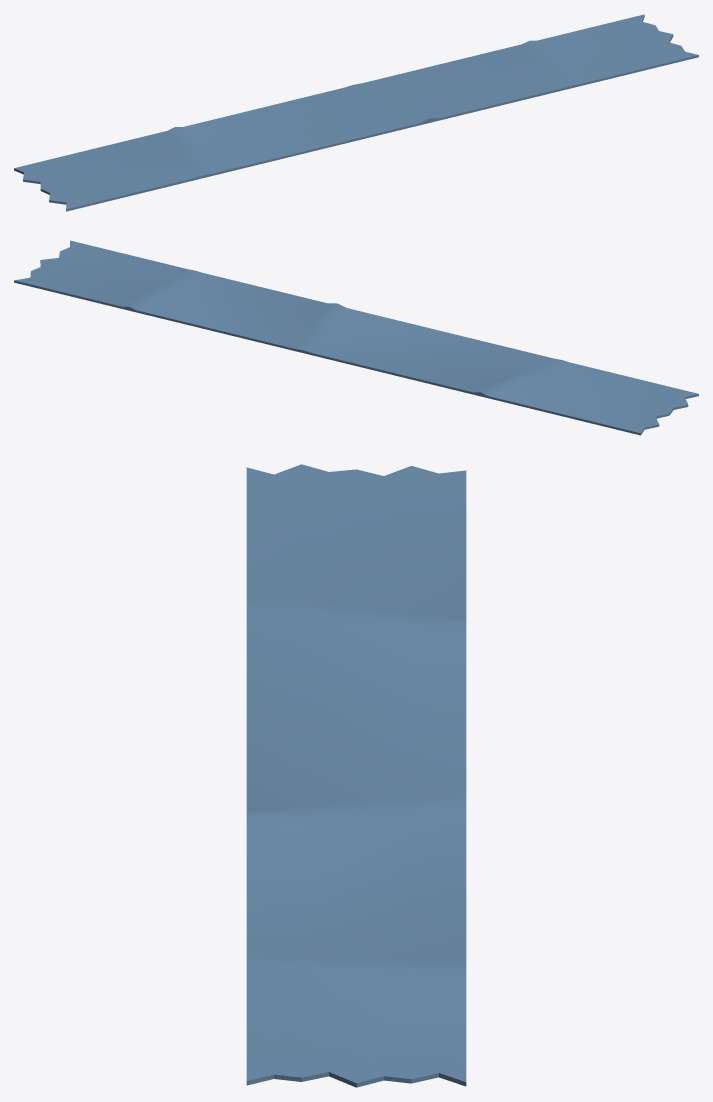
The model's file is prop_tape_strip.glb.
The picture shows the model from 3 angles, top to bottom: view 1: azimuth 30°, elevation 25°; view 2: azimuth 150°, elevation 25°; view 3: azimuth 270°, elevation 25°; orthographic projection. The views are drawn at different scales.
Visible parts, largest first — view 1: Tape; view 2: Tape; view 3: Tape.
Part boxes in pixels (x1,y1,x2,y2): Tape: [14, 14, 698, 211]; Tape: [14, 240, 698, 435]; Tape: [246, 464, 466, 1087].
Size of the model in its own units: 6 by 0.04 by 0.9.
